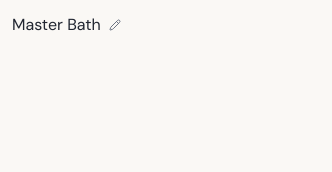
PlanNameEditor UI › A. clicking pencil opens input pre-filled and focused
The image size is (332, 172).
Click the button named "edit project name": (115,25) top-left (105, 15), bottom-right (125, 35)
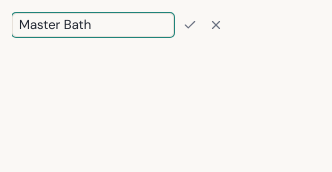
Check: the field named "edit project name" holds "Master Bath", box top-left (12, 13), bottom-right (174, 37)
